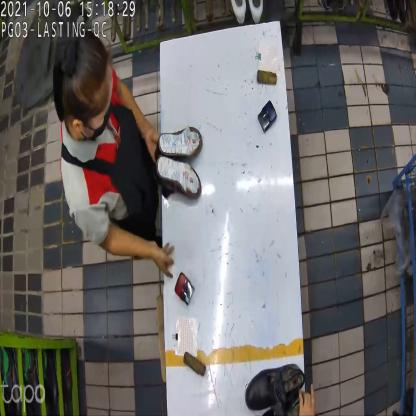shoes: (155, 124, 205, 208), (242, 366, 311, 416)
stamp: (175, 270, 194, 308), (258, 99, 277, 135)
